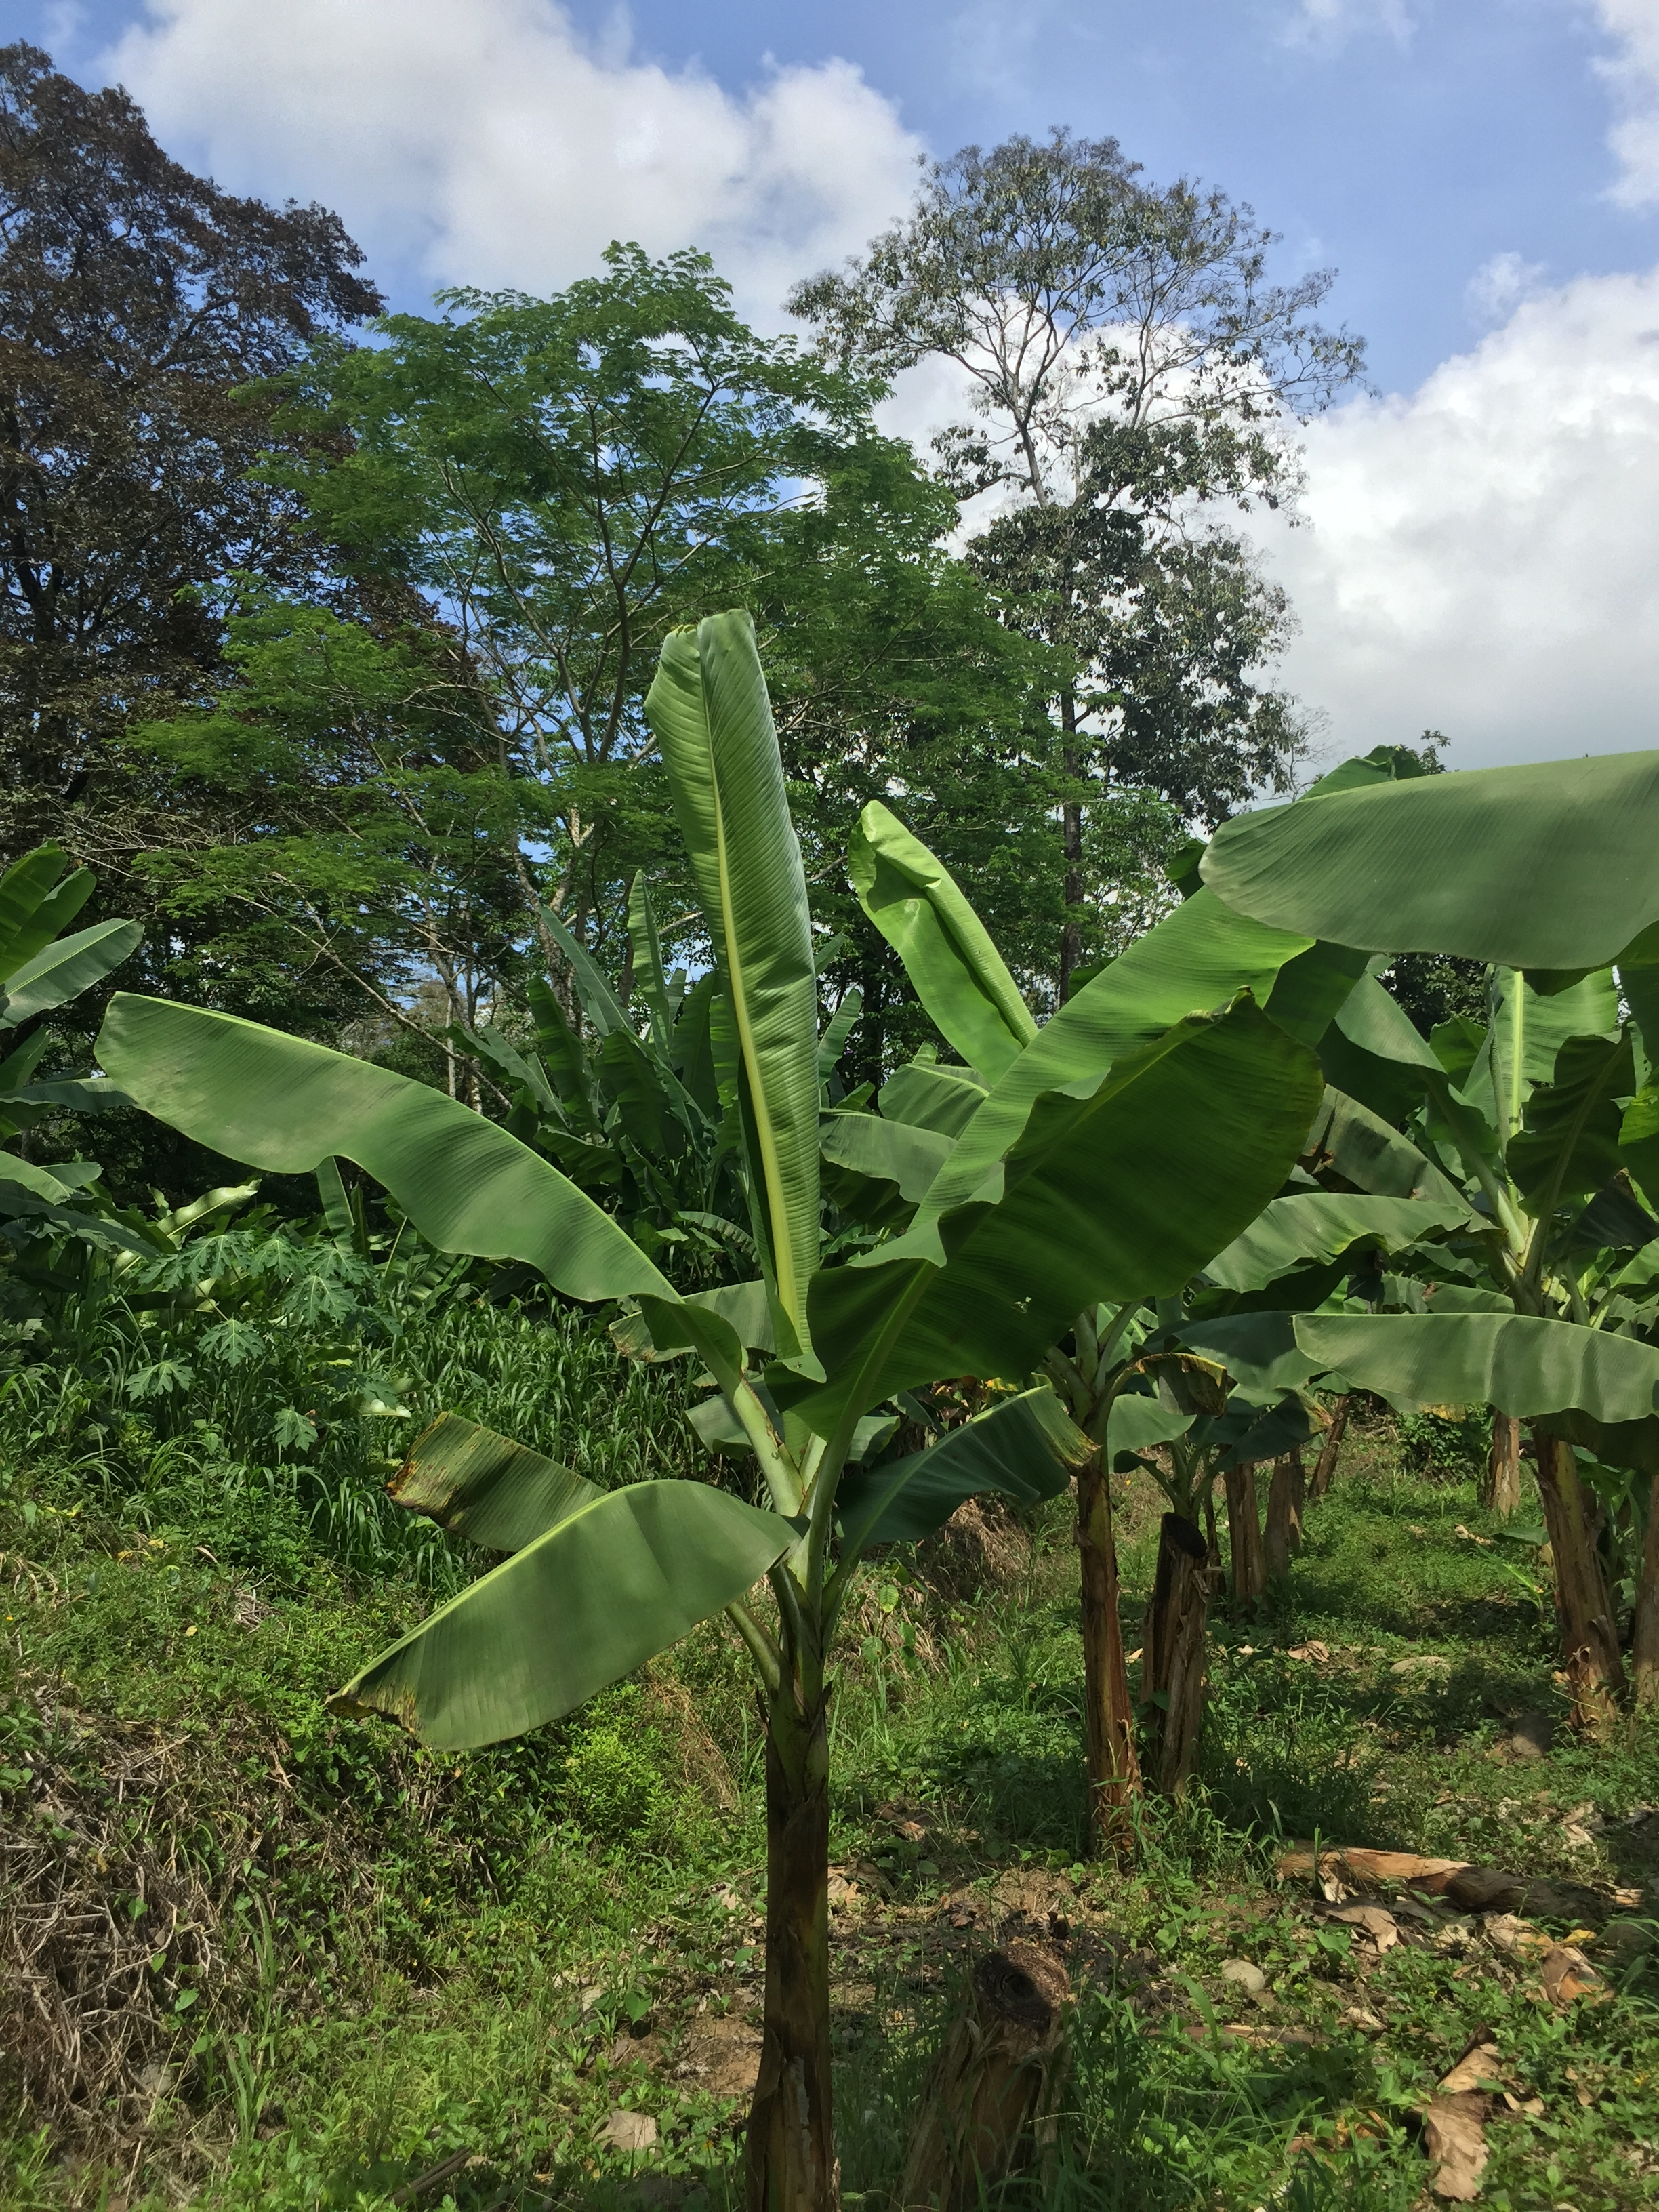candleleafs: (641, 608, 821, 1298), (847, 799, 1042, 1047)
